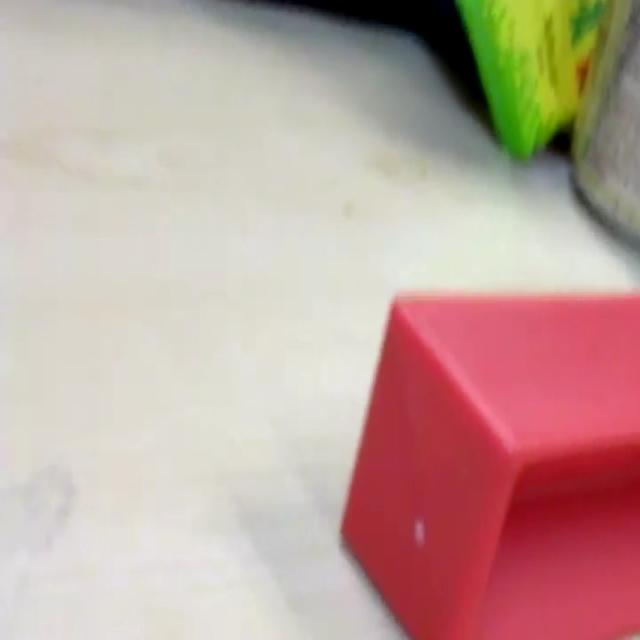red_block: (339, 284, 639, 637)
